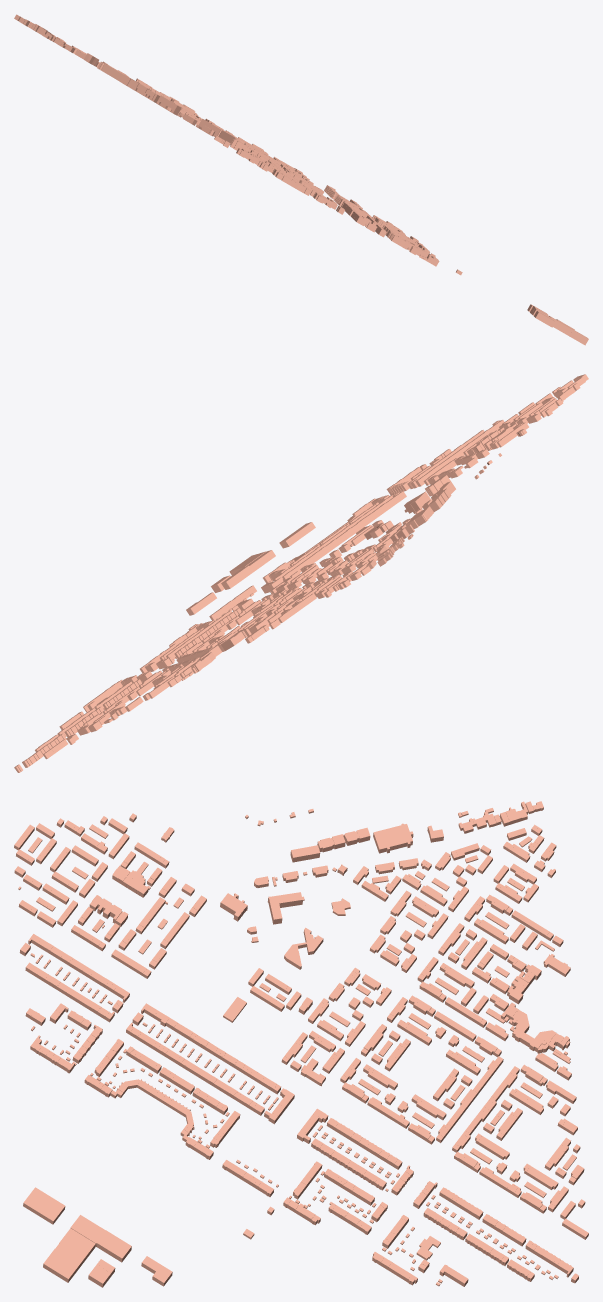
The picture shows the model from 3 angles, top to bottom: view 1: azimuth 30°, elevation 25°; view 2: azimuth 150°, elevation 25°; view 3: azimuth 270°, elevation 25°; orthographic projection. The views are drawn at different scales.
Size of the model in its own units: 518 by 374 by 639.
